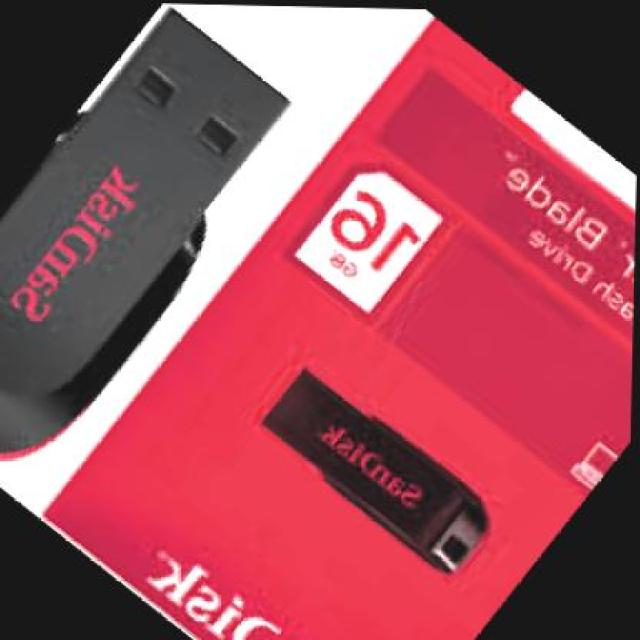Flashdisk: (0, 0, 328, 508)
